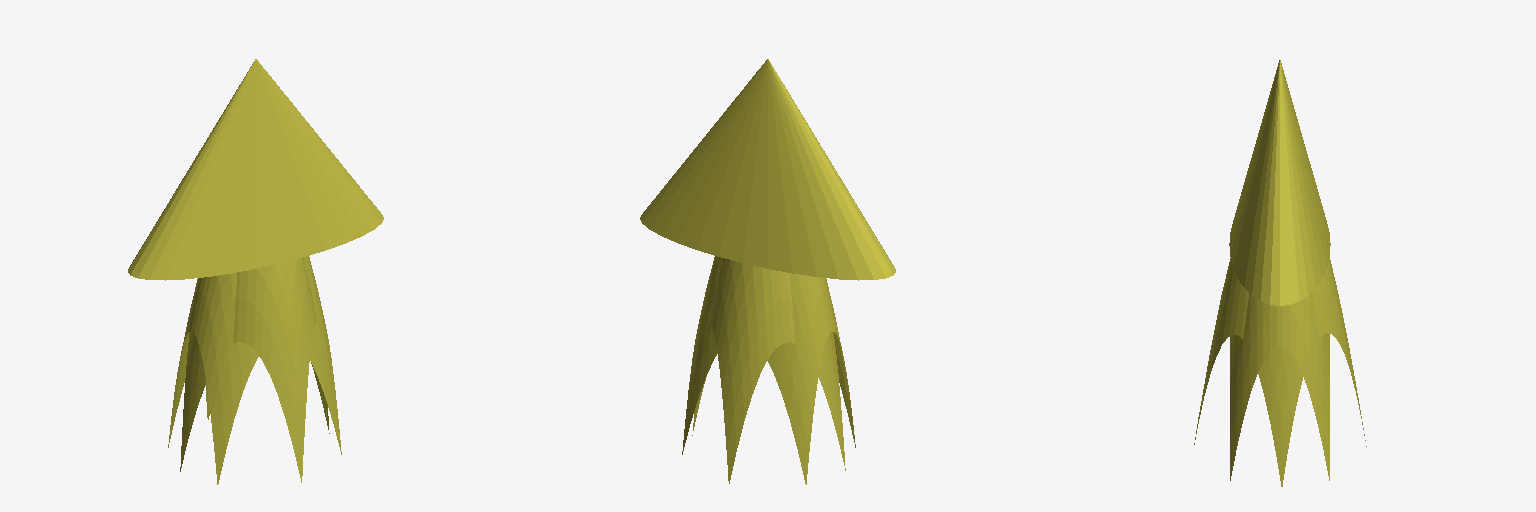
3 views of the same model, side by side, from view 1: azimuth 30°, elevation 25°; view 2: azimuth 150°, elevation 25°; view 3: azimuth 270°, elevation 25° (orthographic).
Visible parts, largest first — view 1: 円錐, NURBSサーフェス.001, NURBSサーフェス; view 2: 円錐, NURBSサーフェス.001, NURBSサーフェス; view 3: 円錐, NURBSサーフェス, NURBSサーフェス.001.
Part boxes in pixels (x1,y1,x2,y2): 円錐: (128,59,383,280); NURBSサーフェス.001: (180,257,329,482); NURBSサーフェス: (168,256,341,484); 円錐: (640,59,895,280); NURBSサーフェス.001: (692,258,845,483); NURBSサーフェス: (682,256,855,484); 円錐: (1229,60,1330,305); NURBSサーフェス: (1230,292,1329,480); NURBSサーフェス.001: (1194,257,1366,486).
Size of the model in its own units: 2.91 by 4.37 by 1.75.
1 materials, 1 textured.